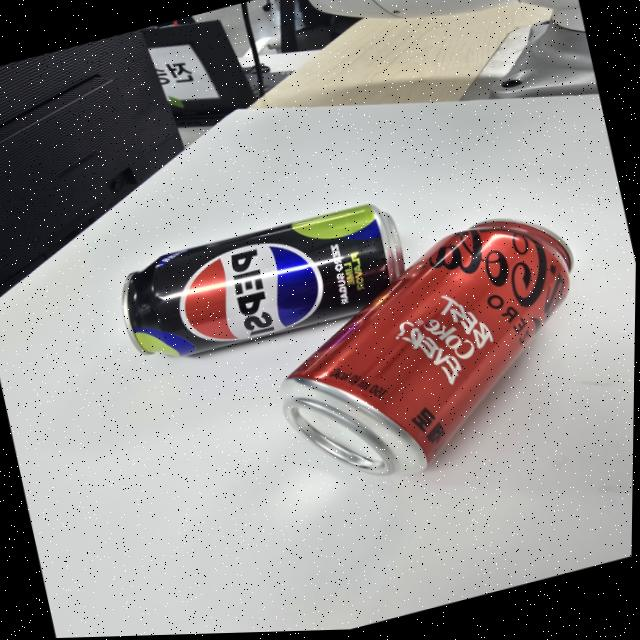can_coke_zero: (287, 221, 573, 478)
can_pepsi_zero: (127, 202, 402, 352)
